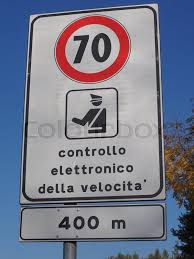Speed_limit_70km: (54, 15, 130, 82)
